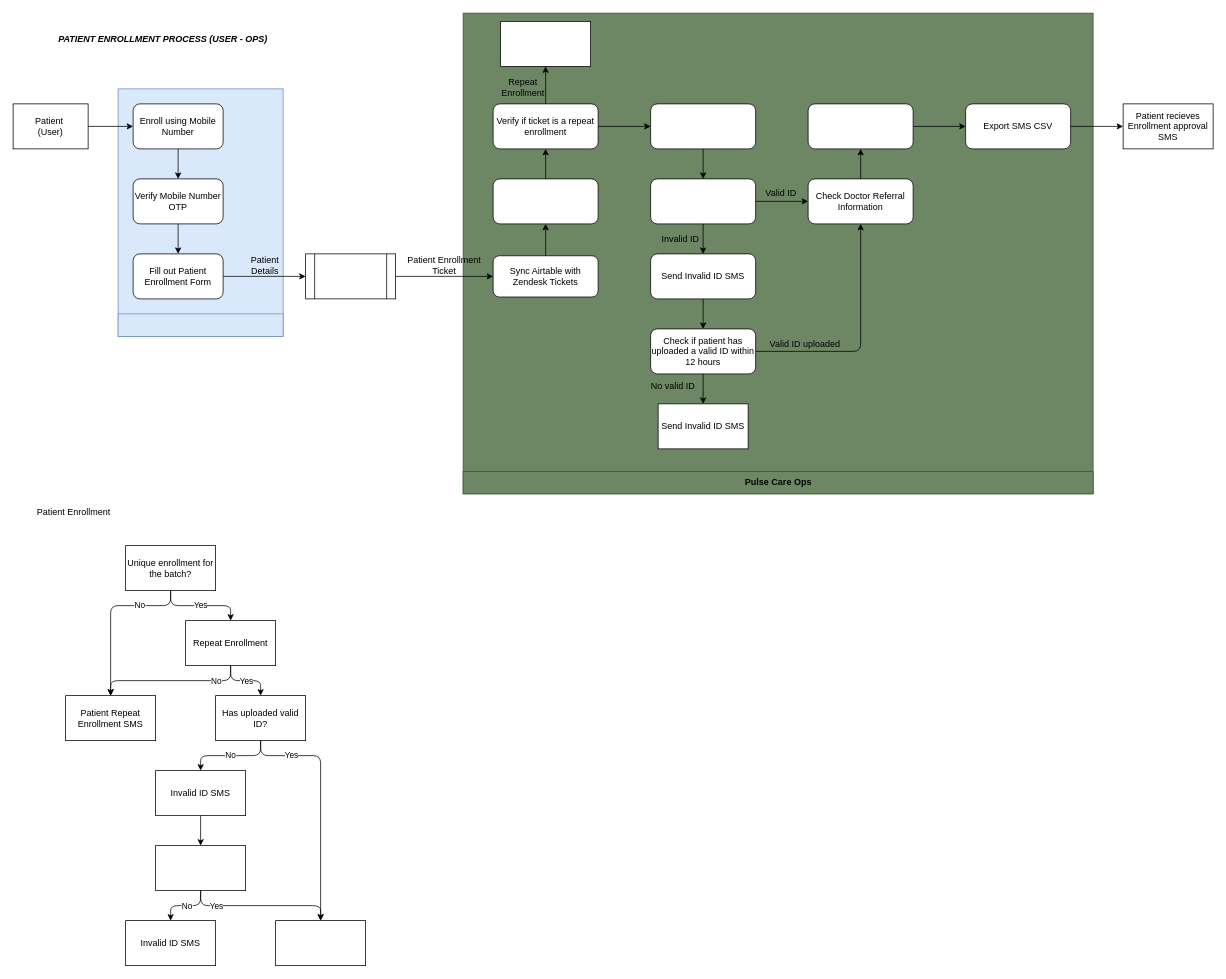
Some shapes in this 1226 by 979 pixel diagram are drawn without their labels. Each missing label, with the centre of its shape:
Check if patient is enrolled in Adverse Events: point 703,126
Check Patient's Valid ID: point 703,201
Fill out ticket processer information: point 860,126
Has uploaded valid ID after 12 hours?: point 200,868
MedGrocer Zendesk: point 350,276
Patient Enrollment Approval SMS: point 320,943
Pulse Care Website: point 200,324
Send patient repeat enrollment SMS: point 545,43
Verify if ticket is a unique enrollment for the batch: point 545,201
